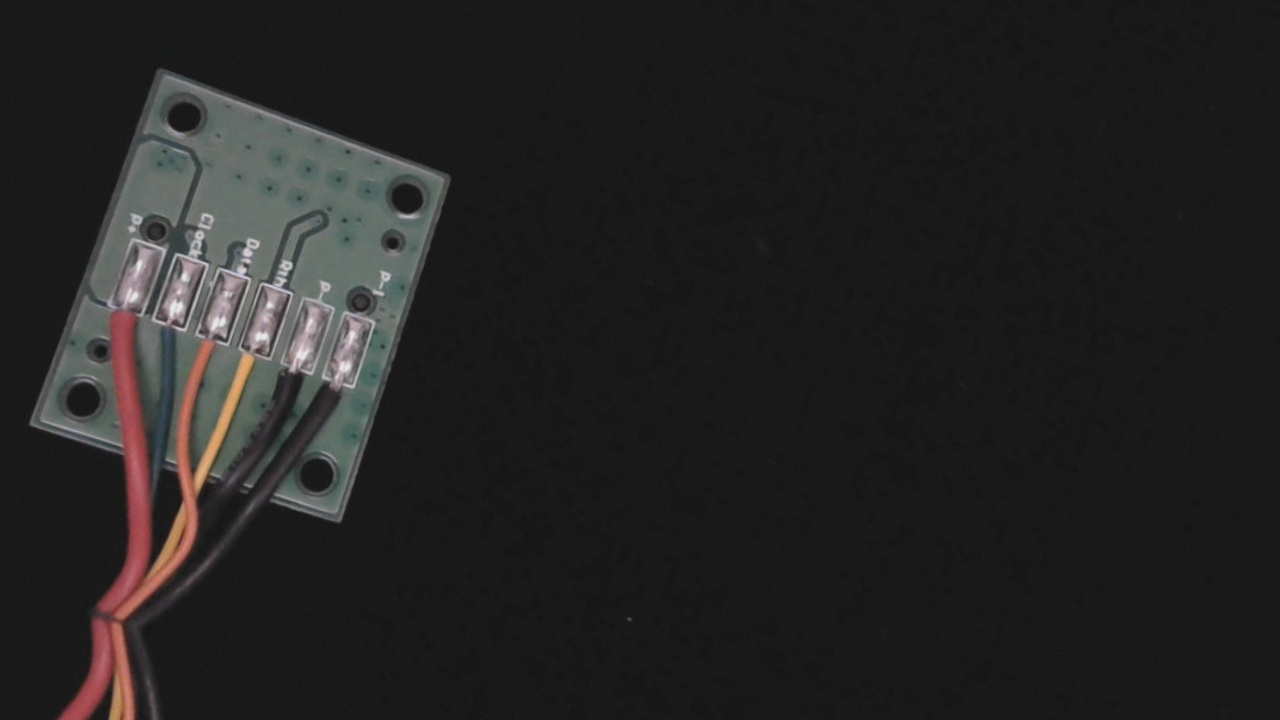Black: (263, 346, 318, 423)
Black1: (305, 357, 364, 441)
Green: (135, 299, 196, 387)
Orange: (176, 314, 236, 403)
Red: (89, 285, 150, 373)
Yellow: (215, 331, 277, 423)
